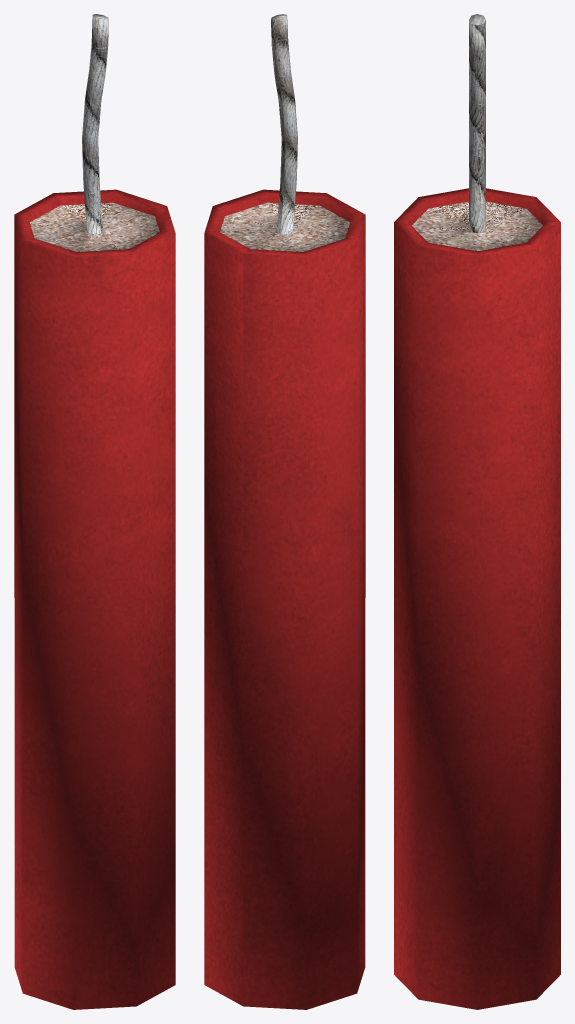
The model's file is DynamiteStick.glb.
The picture shows the model from 3 angles, left to right: view 1: azimuth 30°, elevation 25°; view 2: azimuth 150°, elevation 25°; view 3: azimuth 270°, elevation 25°; orthographic projection.
Visible parts, largest first — view 1: DynamiteStick; view 2: DynamiteStick; view 3: DynamiteStick.
Part boxes in pixels (x1,y1,x2,y2): DynamiteStick: (14, 14, 175, 1009); DynamiteStick: (204, 14, 365, 1009); DynamiteStick: (394, 14, 560, 1009).
Size of the model in its own units: 0.0349 by 0.2216 by 0.0349.
1 material, 1 textured.
